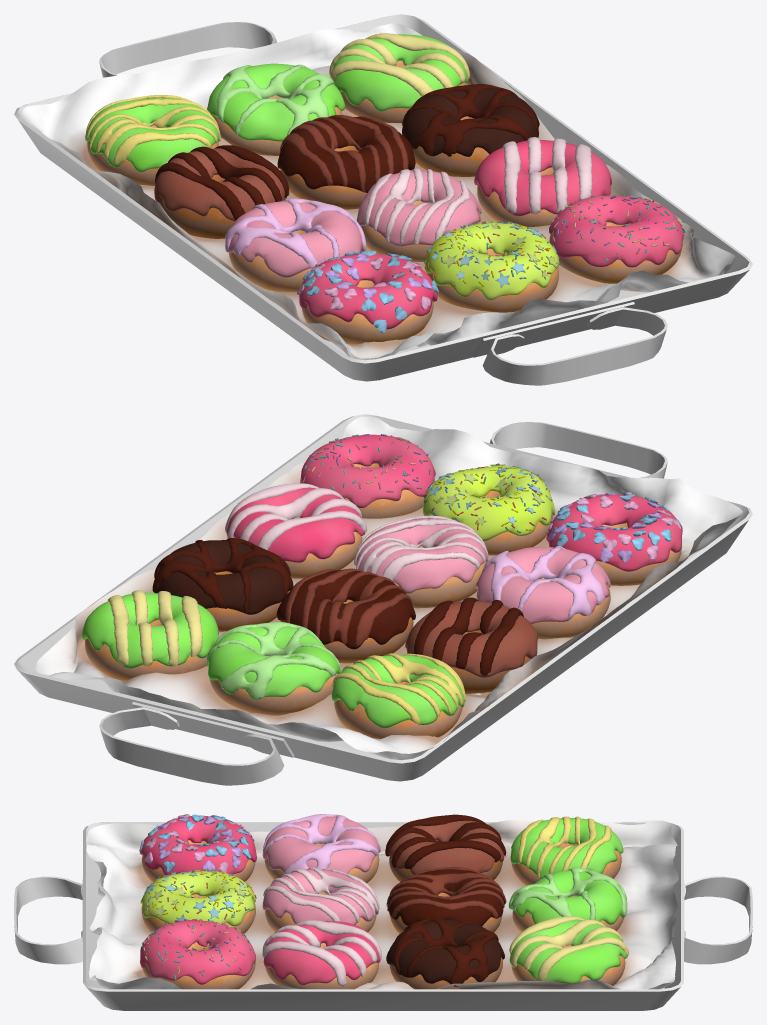
The model's file is bandeja_donas.glb.
3 renders of one model, top to bottom at view 1: azimuth 30°, elevation 25°; view 2: azimuth 150°, elevation 25°; view 3: azimuth 270°, elevation 25°, orthographic. The views are drawn at different scales.
Visible parts, largest first — view 1: Donuts, Plane, Plane.003; view 2: Donuts, Plane, Plane.003; view 3: Donuts, Plane.003, Plane.
Boxes of the visible parts, x1,y1,x2,y2 form: Donuts: [85, 33, 685, 344]; Plane: [14, 14, 752, 385]; Plane.003: [22, 23, 735, 360]; Donuts: [81, 434, 682, 738]; Plane: [14, 414, 752, 785]; Plane.003: [35, 416, 742, 760]; Donuts: [139, 814, 628, 989]; Plane.003: [86, 820, 678, 989]; Plane: [14, 822, 752, 1010].
Bounding box in the file's own units: 426 × 58.44 × 785.
Materials: 3 (2 with a texture image).
